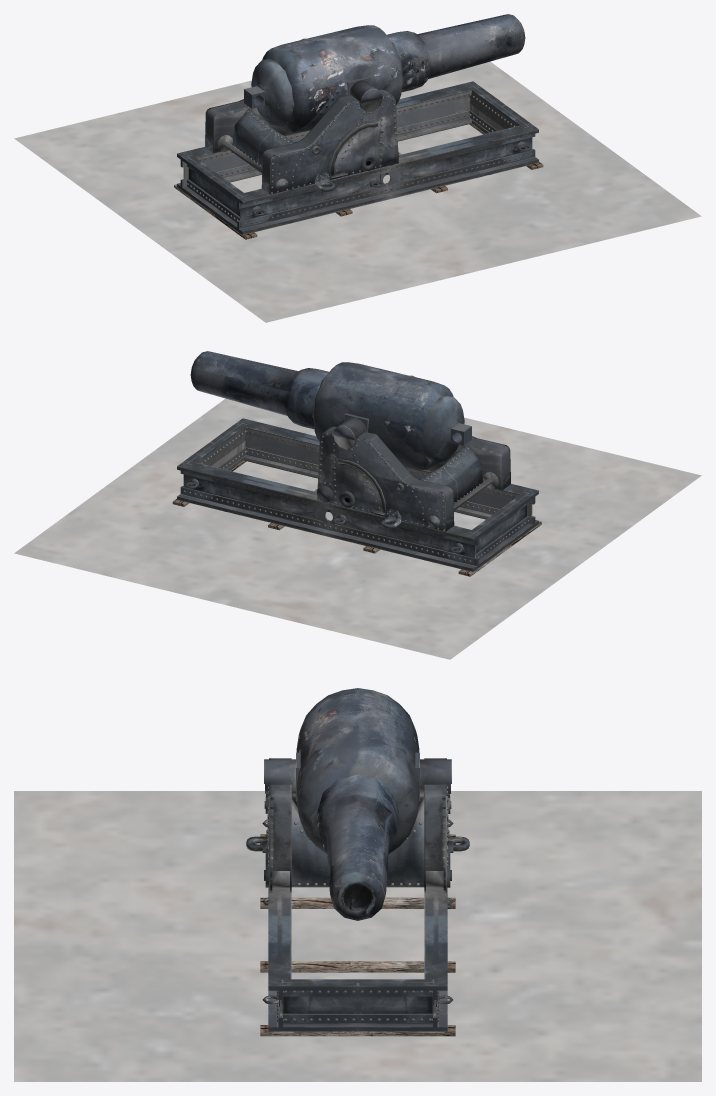
The model's file is ErkunshenFortress.glb.
3 views of the same model, one above another, from view 1: azimuth 30°, elevation 25°; view 2: azimuth 150°, elevation 25°; view 3: azimuth 270°, elevation 25° (orthographic). The views are drawn at different scales.
Size of the model in its own units: 3.39 by 1.09 by 3.39.
Materials: 2 (2 with a texture image).
